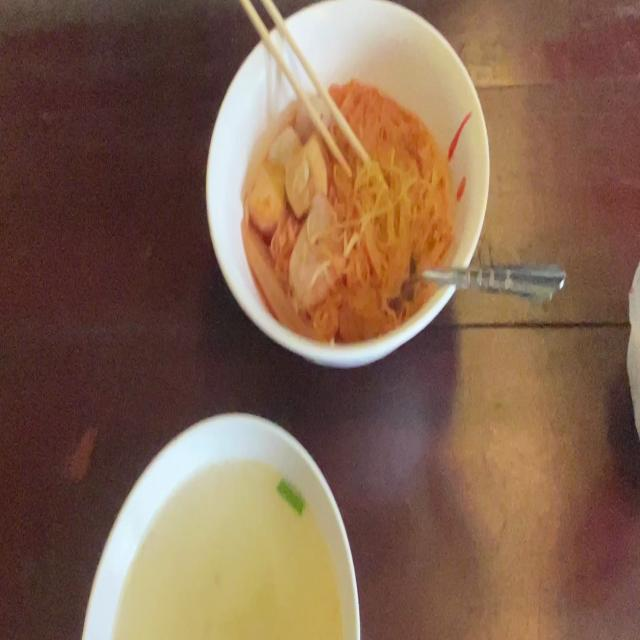crunchy_squid: (242, 221, 328, 343)
egg_noodles: (341, 82, 448, 314)
fish_ball: (295, 95, 330, 144), (271, 120, 299, 171)
fried_fish_balls: (289, 192, 344, 302)
fried_tofu: (288, 134, 334, 214)
noodle: (242, 82, 448, 350)
tofu: (246, 154, 288, 230)
